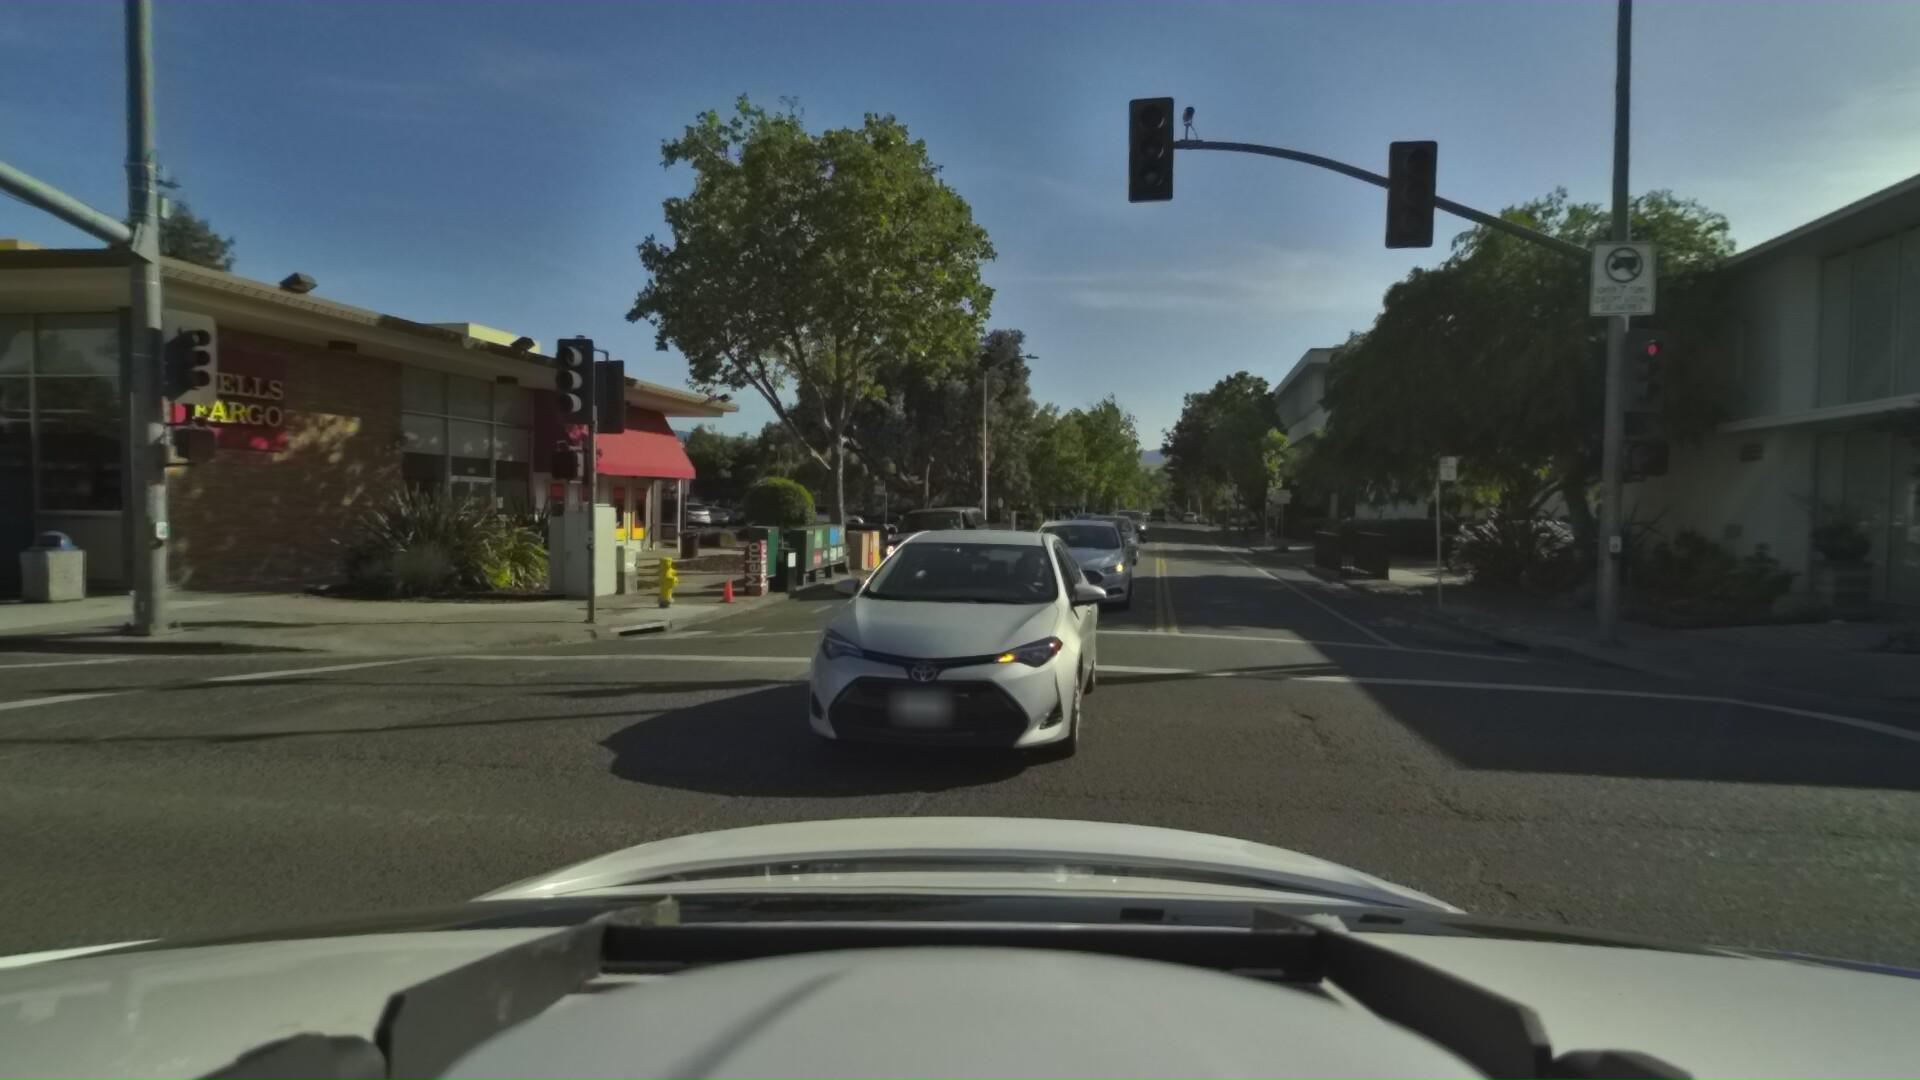car: (752, 518, 1109, 837), (864, 496, 996, 595), (1026, 516, 1143, 618), (1425, 521, 1509, 567), (1075, 513, 1141, 571), (783, 502, 876, 535), (824, 502, 911, 531), (1108, 509, 1150, 545)
